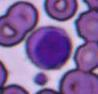L: (25, 24, 73, 70)
